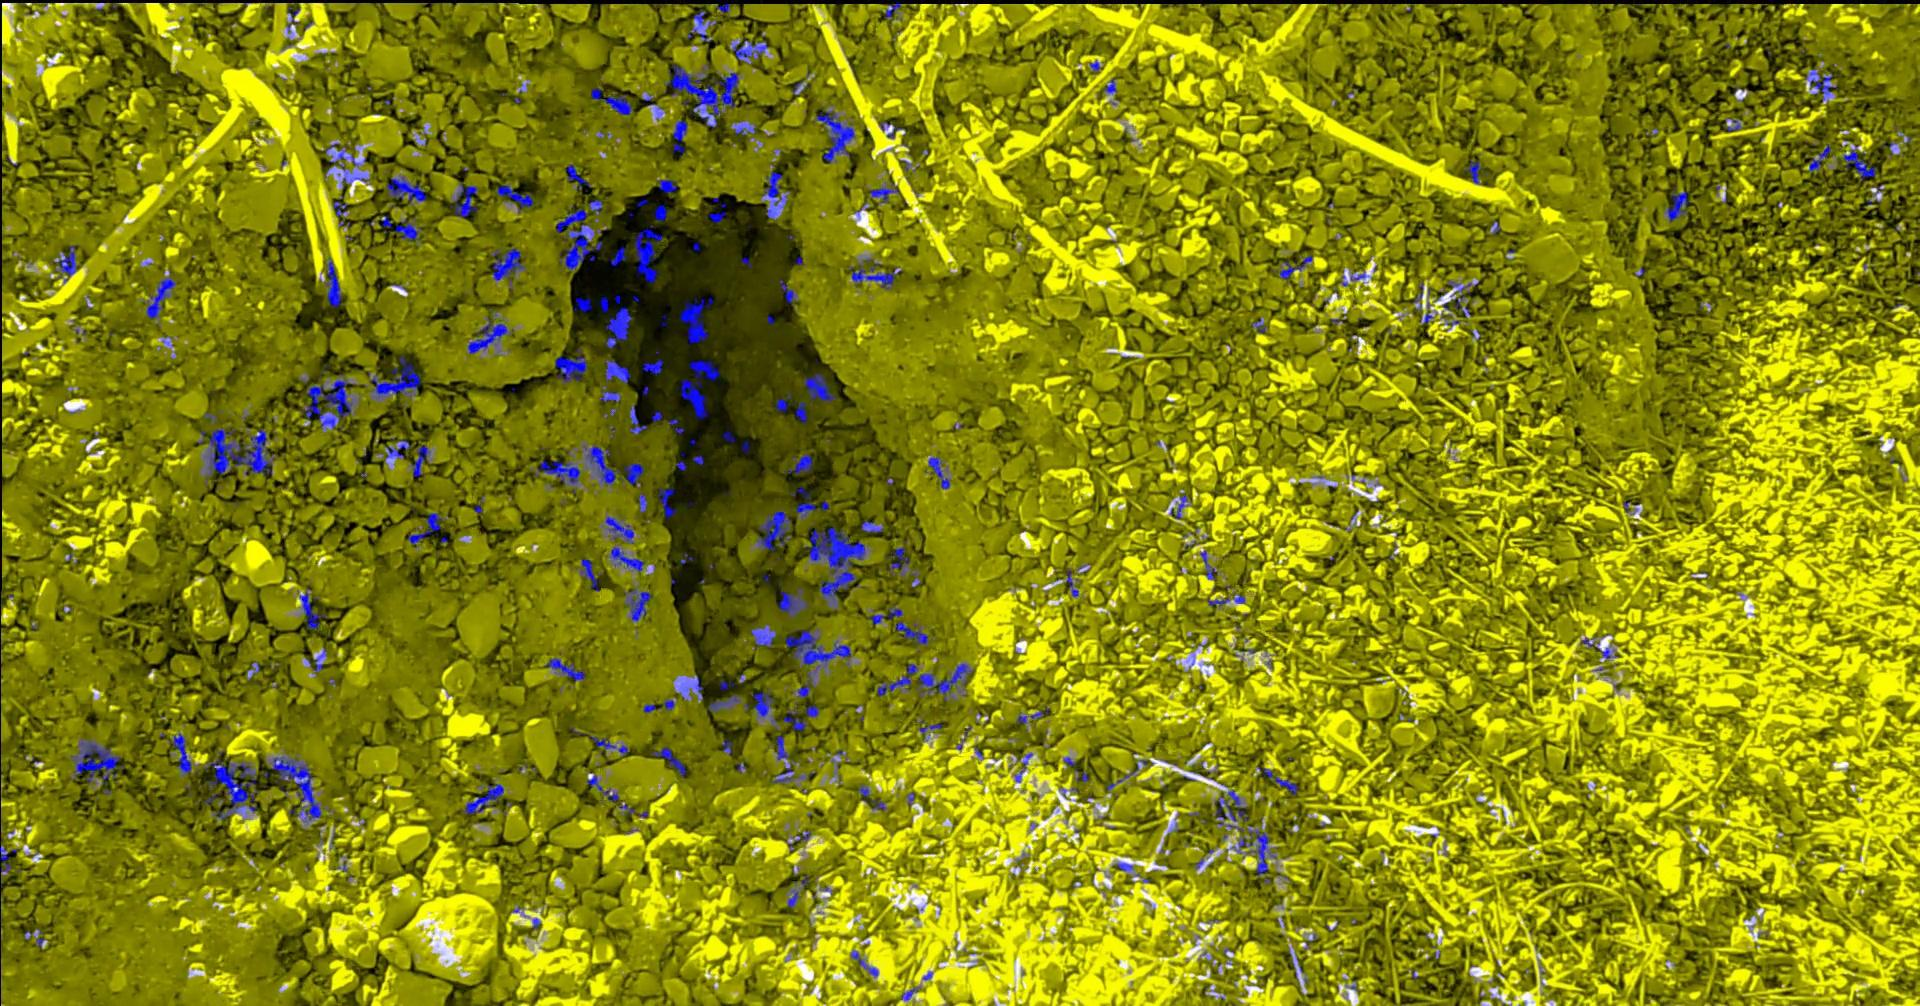ant: (582, 445, 643, 486), (679, 359, 719, 419), (367, 354, 420, 398), (811, 111, 855, 163), (916, 663, 973, 700), (466, 307, 510, 354), (632, 224, 662, 282), (848, 258, 902, 290), (568, 727, 627, 754), (530, 460, 580, 492), (604, 293, 632, 348), (143, 272, 177, 318), (679, 297, 712, 343), (458, 780, 503, 813), (1837, 144, 1876, 182), (491, 248, 524, 290), (756, 511, 790, 550), (789, 486, 829, 520), (876, 663, 917, 696), (1448, 279, 1478, 323), (408, 512, 443, 546), (590, 86, 631, 116), (1257, 766, 1298, 795), (377, 215, 422, 241), (554, 347, 585, 384), (386, 175, 425, 205), (298, 588, 326, 629), (1804, 69, 1837, 102), (50, 244, 77, 282), (651, 746, 684, 777), (606, 545, 644, 572), (450, 182, 477, 217), (497, 184, 532, 212), (543, 657, 584, 681), (686, 9, 716, 41), (623, 587, 651, 621), (1272, 255, 1312, 279), (778, 587, 808, 619), (803, 373, 836, 401), (763, 171, 789, 207), (585, 775, 618, 801), (329, 146, 350, 187), (731, 39, 767, 64), (771, 760, 808, 782), (1663, 187, 1688, 221), (885, 541, 909, 575), (894, 621, 928, 645), (171, 732, 190, 775), (325, 257, 342, 306), (577, 558, 601, 591), (1580, 636, 1617, 658), (604, 514, 632, 542), (927, 456, 950, 488), (0, 843, 17, 887), (850, 950, 877, 976), (867, 605, 902, 625), (1015, 705, 1049, 725), (409, 445, 430, 476), (565, 164, 590, 191), (791, 669, 815, 697), (1063, 757, 1088, 782), (752, 688, 775, 716), (869, 180, 898, 202), (657, 486, 676, 518), (1808, 144, 1830, 171), (782, 706, 806, 730), (604, 359, 630, 382), (1170, 492, 1191, 518), (783, 453, 811, 474), (750, 625, 776, 647), (670, 119, 687, 152), (629, 404, 646, 434), (306, 647, 326, 673), (1015, 752, 1032, 782), (707, 695, 739, 711), (918, 719, 942, 741), (383, 439, 409, 460), (778, 279, 796, 307), (877, 121, 904, 138), (1208, 593, 1244, 606), (1463, 160, 1482, 184), (1199, 550, 1214, 579), (1063, 568, 1078, 596), (1411, 282, 1423, 311), (731, 119, 756, 135), (587, 198, 602, 222), (707, 203, 726, 222), (598, 385, 620, 401), (775, 734, 789, 760), (791, 401, 808, 422), (610, 246, 626, 265), (573, 296, 592, 312), (643, 358, 663, 373), (775, 391, 790, 412), (884, 0, 900, 18), (667, 418, 684, 434), (860, 520, 883, 532), (791, 79, 808, 95), (331, 199, 347, 216), (1726, 117, 1743, 131), (658, 179, 677, 192), (246, 661, 259, 680), (653, 205, 667, 221), (1251, 318, 1265, 333), (858, 782, 869, 803), (787, 889, 799, 907), (1103, 77, 1116, 93), (637, 493, 648, 512), (804, 704, 819, 716), (909, 569, 919, 587), (598, 296, 608, 312), (721, 431, 735, 442), (871, 799, 885, 810), (721, 739, 731, 754), (662, 699, 674, 710), (719, 680, 733, 690)
